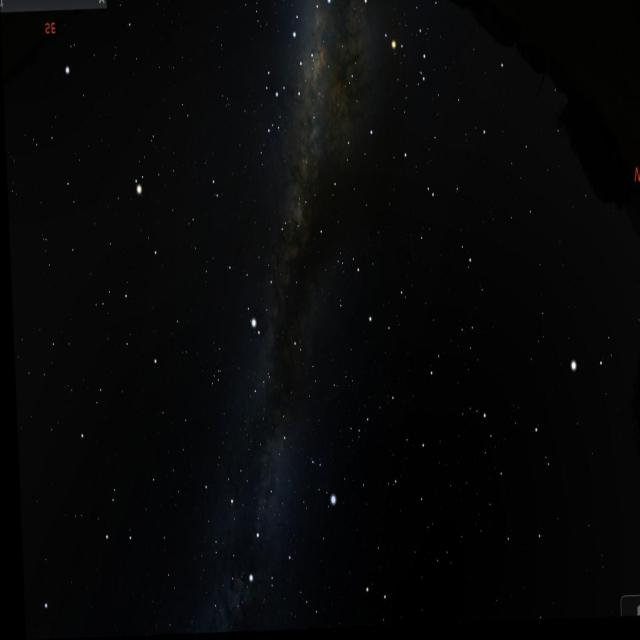aquila: (213, 197, 303, 389)
bootes: (469, 334, 606, 558)
cygnus: (216, 402, 295, 594)
lyra: (298, 453, 338, 516)
sagittarius: (242, 27, 316, 142)
scorpius: (311, 0, 439, 113)
